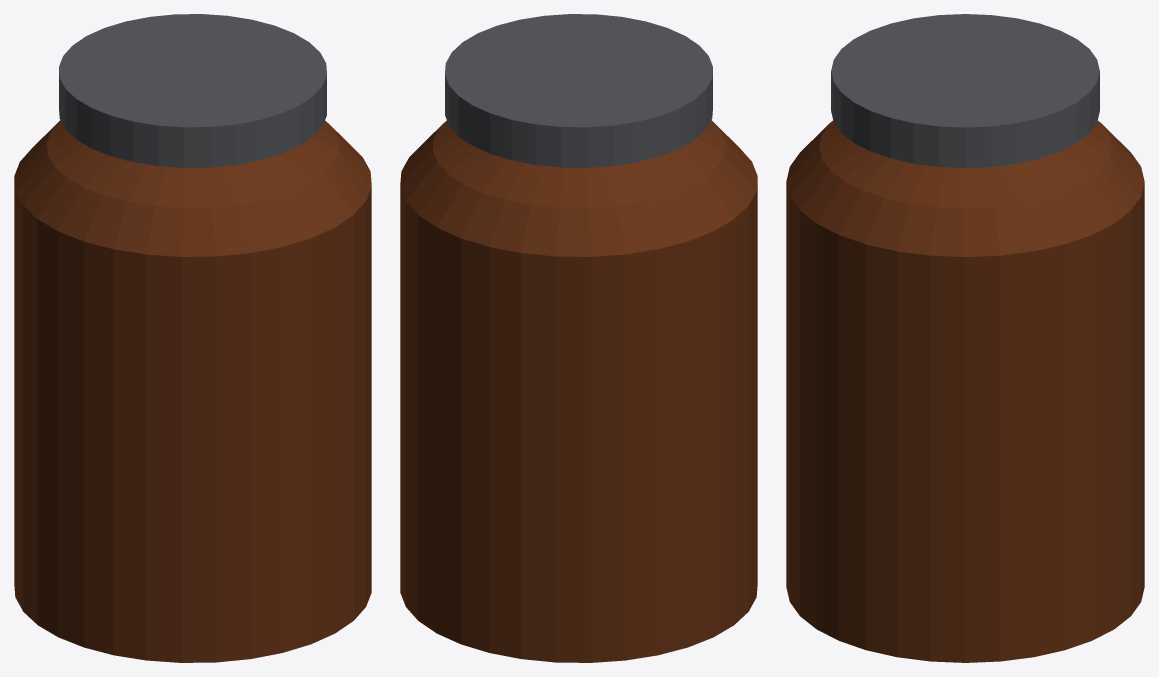
File: acidbottle.glb
The picture shows the model from 3 angles, left to right: view 1: azimuth 30°, elevation 25°; view 2: azimuth 150°, elevation 25°; view 3: azimuth 270°, elevation 25°; orthographic projection.
Parts seen in each view (by area): view 1: Cylinder, Cylinder.001; view 2: Cylinder, Cylinder.001; view 3: Cylinder, Cylinder.001.
Part boxes in pixels (x1,y1,x2,y2): Cylinder: (14, 120, 371, 662); Cylinder.001: (59, 14, 326, 167); Cylinder: (400, 120, 757, 662); Cylinder.001: (445, 14, 712, 167); Cylinder: (786, 120, 1144, 662); Cylinder.001: (831, 14, 1099, 167).
Size of the model in its own units: 0.04 by 0.0636 by 0.04.
